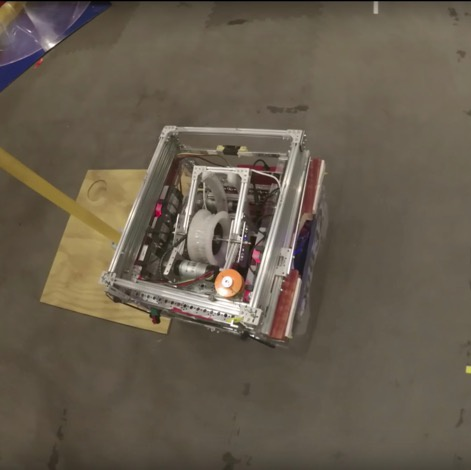robot: (97, 120, 332, 351)
